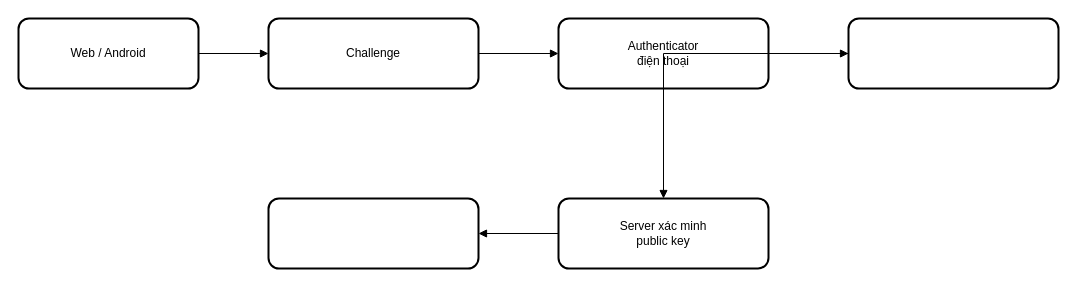
Image size: 1076x286. Some labels were removed from this diagram. Here are the shapes that lost their labels. From the top down, the centre of each, then its label:
At (x=953, y=53): "Assertion".
At (x=373, y=233): "Cho phép truy cập".
